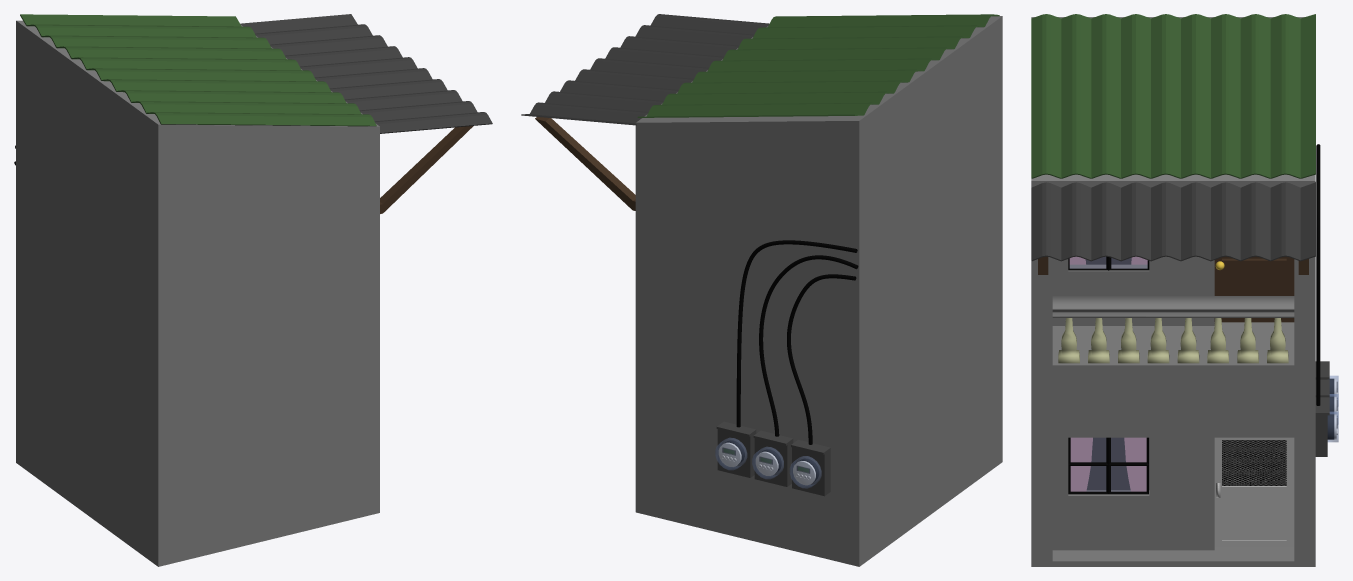
The model's file is House_1.fbx.
3 views of the same model, side by side, from view 1: azimuth 30°, elevation 25°; view 2: azimuth 150°, elevation 25°; view 3: azimuth 270°, elevation 25° (orthographic).
Parts seen in each view (by area): view 1: House, Roof_1, Roof_2, Roof Support; view 2: House, Roof_1, Roof_2, Electric Meter.002, Electric Meter.001, Electric Meter, Roof Support, Meter Wire, Meter Wire.001, Meter Wire.002; view 3: House, Roof_1, Roof_2, Entrance Door, Pillars, Ledge, Entrance Glass, Balcony Door, Entrance Door Grids, Entrance Curtain, Meter Wire, Entrance Window Frame (+4 smaller).
Part boxes in pixels (x1,y1,x2,y2): House: [16, 20, 379, 566]; Roof_1: [20, 14, 376, 126]; Roof_2: [240, 14, 492, 133]; Roof Support: [380, 126, 473, 213]; House: [635, 16, 1002, 566]; Roof_1: [637, 14, 999, 117]; Roof_2: [521, 14, 769, 125]; Electric Meter.002: [789, 439, 830, 496]; Electric Meter.001: [752, 430, 793, 486]; Electric Meter: [715, 421, 756, 477]; Roof Support: [535, 117, 635, 210]; Meter Wire: [736, 240, 857, 427]; Meter Wire.001: [759, 255, 858, 436]; Meter Wire.002: [787, 274, 856, 444]; House: [1031, 17, 1315, 566]; Roof_1: [1031, 14, 1315, 178]; Roof_2: [1031, 182, 1315, 261]; Entrance Door: [1214, 437, 1294, 546]; Pillars: [1058, 318, 1288, 363]; Ledge: [1052, 296, 1294, 317]; Entrance Glass: [1071, 438, 1146, 491]; Balcony Door: [1214, 256, 1294, 322]; Entrance Door Grids: [1222, 440, 1286, 485]; Entrance Curtain: [1070, 437, 1146, 491]; Meter Wire: [1316, 144, 1320, 405]; Entrance Window Frame: [1068, 437, 1148, 494].
Size of the model in its own units: 1901 by 2425 by 1510.
